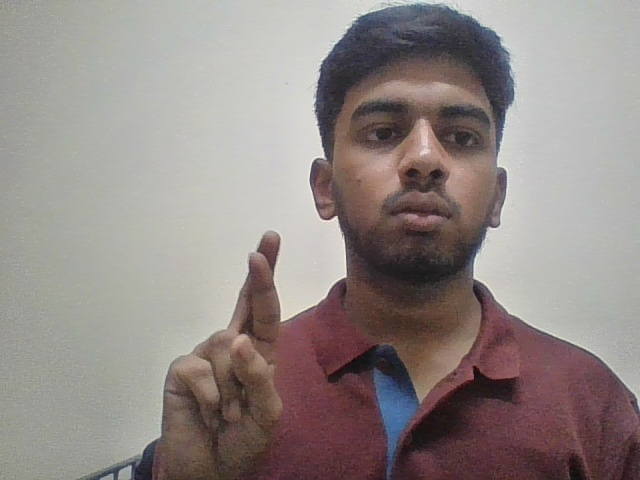R: (141, 228, 307, 480)
